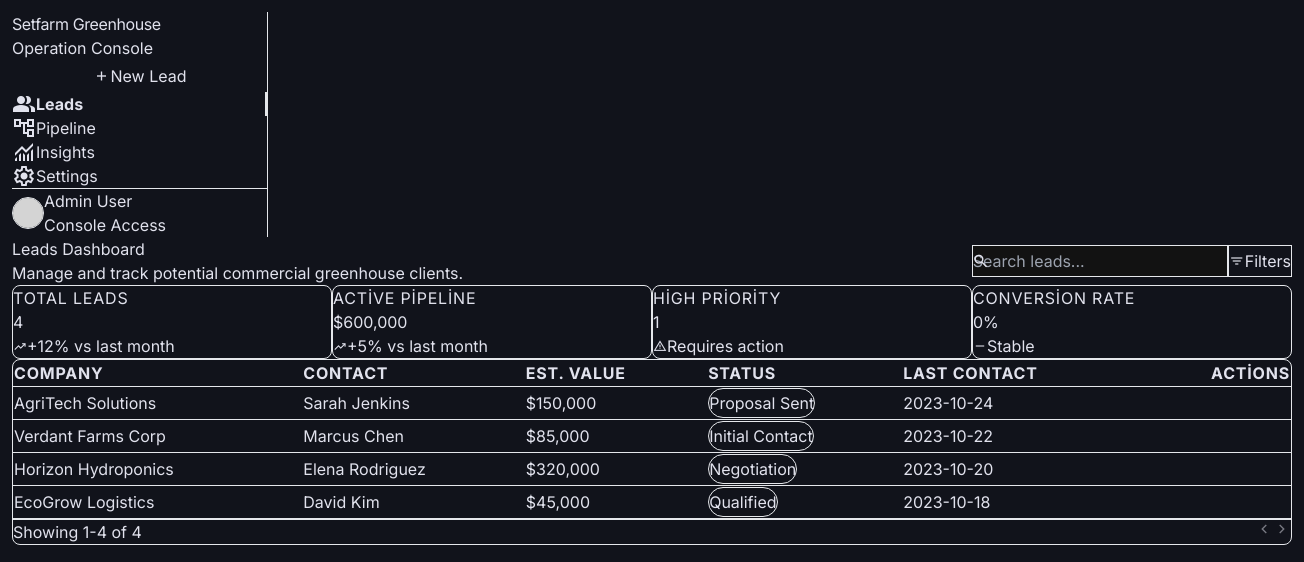
Test: LeadsDashboard › filters leads by search query
Check: the text "AgriTech Solutions" is shown, box [13,386,302,420]
Type "Verdant" into the field with placeholder "Search leads..." at (1100, 261), box [972,245,1228,277]
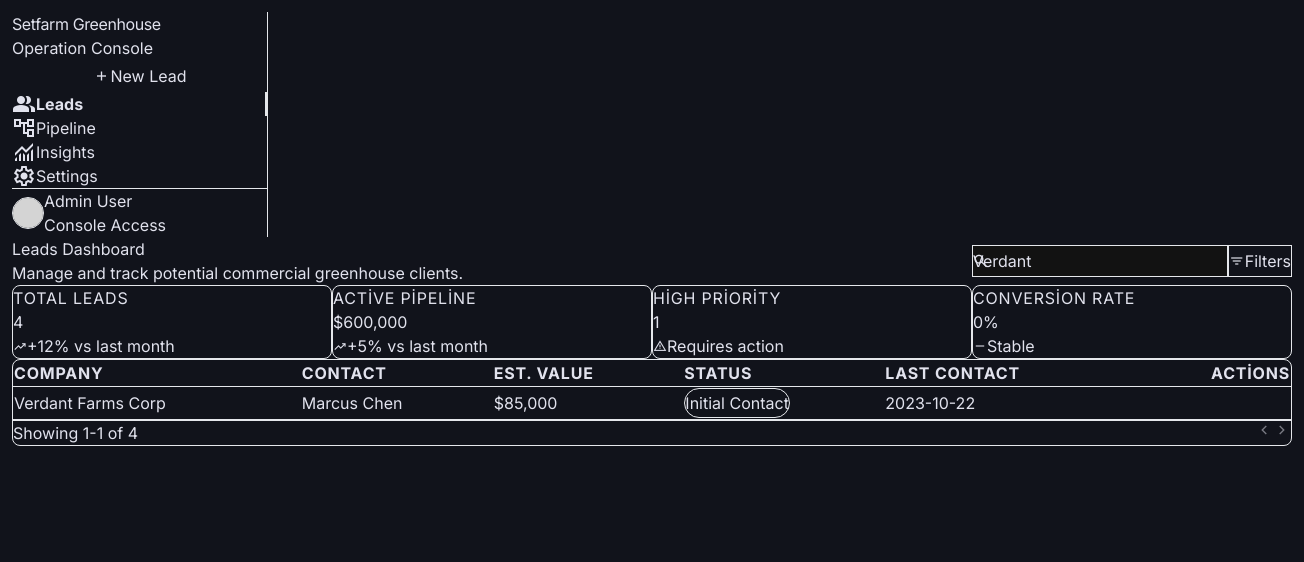
Check: the text "Verdant Farms Corp" is shown, box [13,386,301,420]
Check: the text "AgriTech Solutions" is gone
